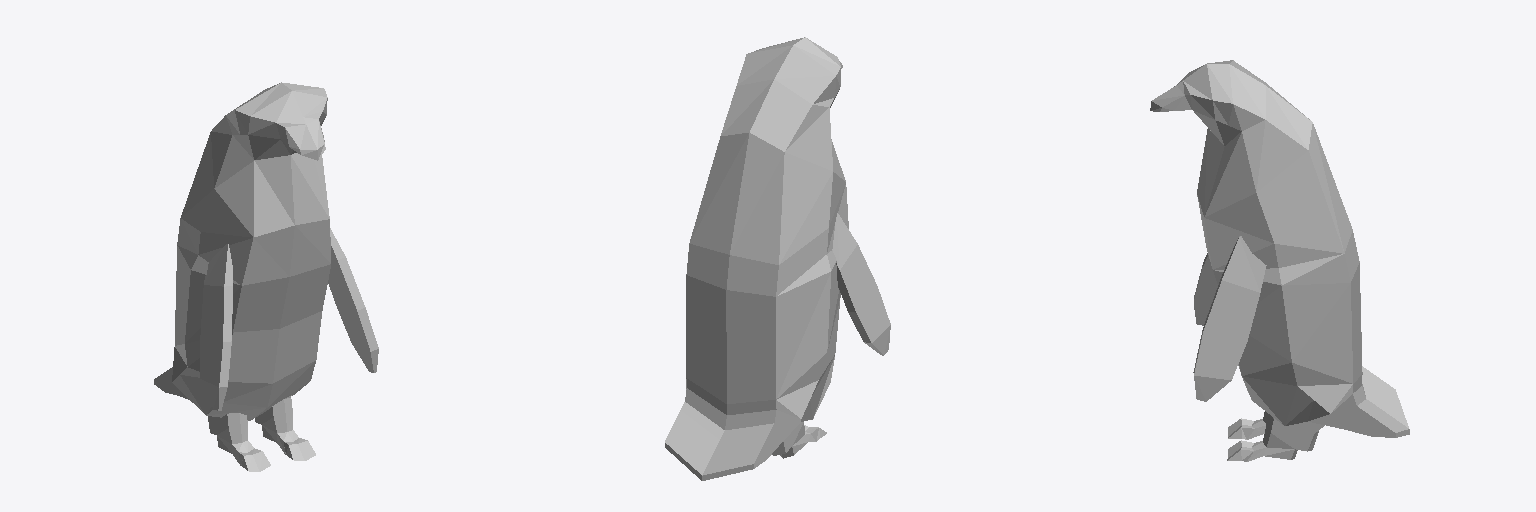
File: fixedpenguin.obj
The picture shows the model from 3 angles: view 1: azimuth 30°, elevation 25°; view 2: azimuth 150°, elevation 25°; view 3: azimuth 270°, elevation 25°; orthographic projection.
Parts seen in each view (by area): view 1: Plane.010; view 2: Plane.010; view 3: Plane.010.
Part boxes in pixels (x1,y1,x2,y2): Plane.010: (154,82,378,471); Plane.010: (665,37,890,480); Plane.010: (1150,60,1409,461).
Size of the model in its own units: 1.43 by 3.28 by 2.01.